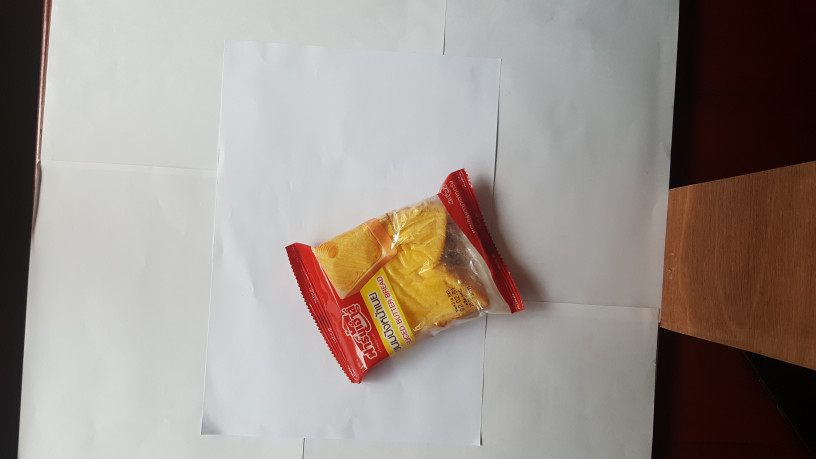farmhouse-bread-butter: (276, 168, 537, 383)
